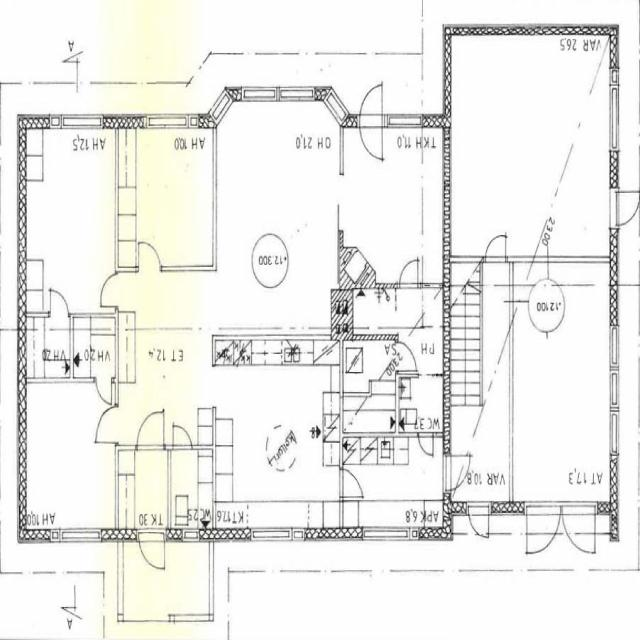door: (561, 501, 595, 566), (527, 501, 561, 566), (443, 454, 476, 490), (137, 406, 164, 450), (140, 527, 164, 576), (359, 114, 382, 162), (359, 81, 382, 129), (610, 192, 640, 226), (92, 407, 118, 442), (469, 501, 488, 543), (139, 234, 160, 271), (95, 275, 118, 306), (486, 227, 505, 262), (173, 417, 192, 450), (339, 470, 362, 497), (396, 342, 418, 370), (400, 256, 418, 289), (51, 286, 68, 318), (418, 432, 434, 459), (96, 378, 111, 406)
